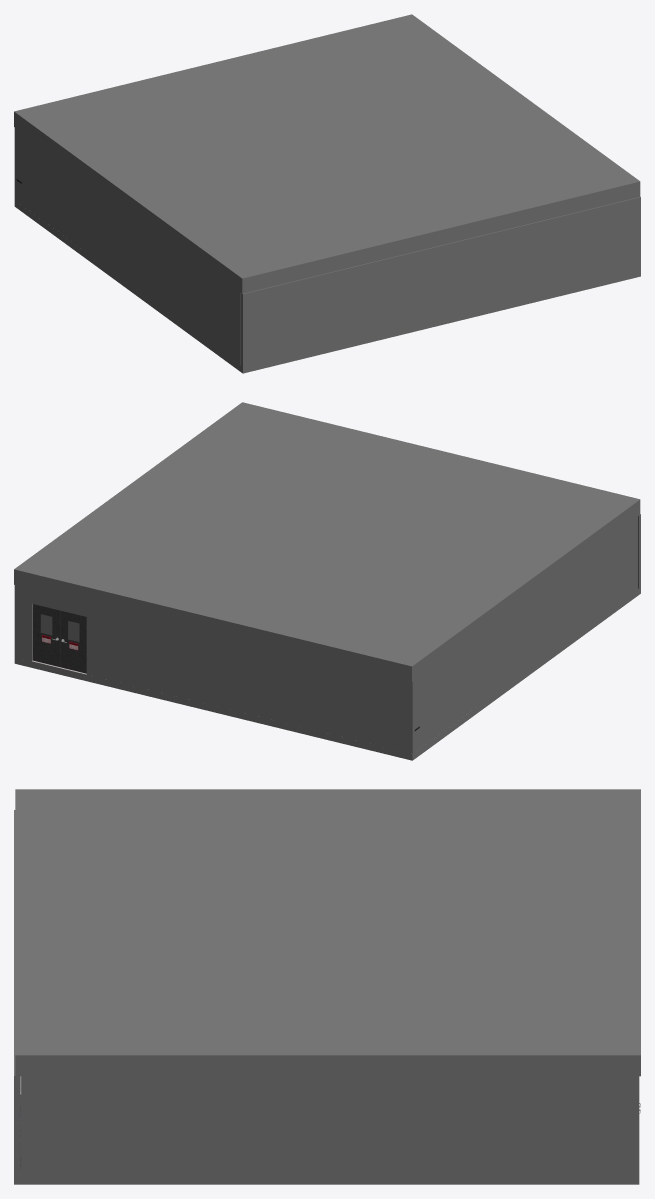
File: shooting_range.glb
3 views of the same model, one above another, from view 1: azimuth 30°, elevation 25°; view 2: azimuth 150°, elevation 25°; view 3: azimuth 270°, elevation 25° (orthographic). The views are drawn at different scales.
Parts seen in each view (by area): view 1: SR Ceiling.Shape, SR Wall Front.Shape, SR Wall Right.Shape, SR Floor.Shape; view 2: SR Ceiling.Shape, SR Wall Back.Shape, SR Wall Right.Shape, SR Floor.Shape, SR Left Door.Shape, SR Right Door.Shape; view 3: SR Ceiling.Shape, SR Wall Left.Shape, SR Floor.Shape, SR Wall Front.Shape, SR Wall Back.Shape.
Part boxes in pixels (x1=…): SR Ceiling.Shape: x1=14, y1=14, x2=640, y2=293; SR Wall Front.Shape: x1=240, y1=197, x2=640, y2=366; SR Wall Right.Shape: x1=16, y1=129, x2=240, y2=364; SR Floor.Shape: x1=14, y1=200, x2=640, y2=373; SR Ceiling.Shape: x1=14, y1=402, x2=640, y2=681; SR Wall Back.Shape: x1=14, y1=585, x2=419, y2=753; SR Wall Right.Shape: x1=414, y1=516, x2=638, y2=752; SR Floor.Shape: x1=14, y1=587, x2=640, y2=760; SR Left Door.Shape: x1=33, y1=604, x2=60, y2=666; SR Right Door.Shape: x1=60, y1=610, x2=86, y2=673; SR Ceiling.Shape: x1=15, y1=789, x2=640, y2=1094; SR Wall Left.Shape: x1=21, y1=1076, x2=633, y2=1175; SR Floor.Shape: x1=14, y1=1094, x2=639, y2=1184; SR Wall Front.Shape: x1=14, y1=810, x2=19, y2=1175; SR Wall Back.Shape: x1=633, y1=1076, x2=639, y2=1175.
Bounding box in the file's own units: 17.06 × 3.88 × 16.99.
Materials: 27 (18 with a texture image).
